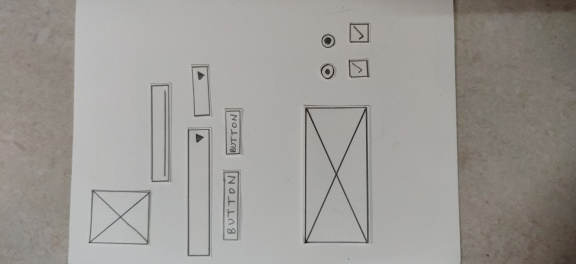button: (219, 168, 242, 243), (222, 106, 245, 159)
checkbox: (345, 57, 373, 81), (345, 21, 372, 45)
dropdown: (184, 124, 214, 260), (186, 61, 216, 120)
img: (298, 102, 375, 247), (86, 187, 153, 247)
radio: (317, 61, 338, 81), (319, 32, 338, 51)
text: (147, 81, 175, 184)
